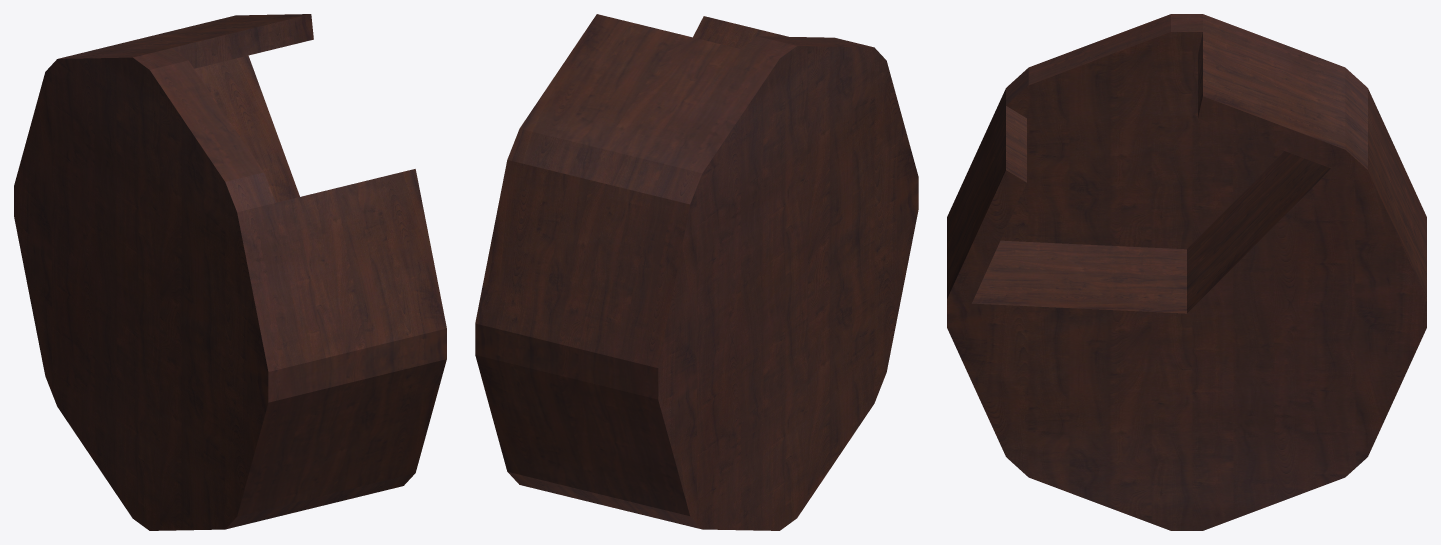
The model's file is EvilBoxPart1.FBX.
The picture shows the model from 3 angles, left to right: view 1: azimuth 30°, elevation 25°; view 2: azimuth 150°, elevation 25°; view 3: azimuth 270°, elevation 25°; orthographic projection. The views are drawn at different scales.
Visible parts, largest first — view 1: Spinner001; view 2: Spinner001; view 3: Spinner001.
Part boxes in pixels (<box>): Spinner001: <box>14,14,446,530</box>; Spinner001: <box>475,14,918,530</box>; Spinner001: <box>947,14,1426,530</box>.
Bounding box in the file's own units: 0.092 × 0.2269 × 0.2269.
1 material, 1 textured.
